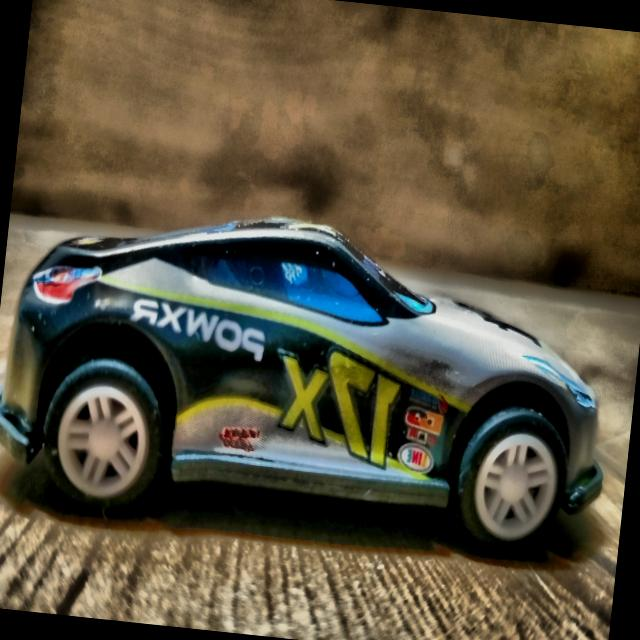Car: (0, 154, 633, 616)
